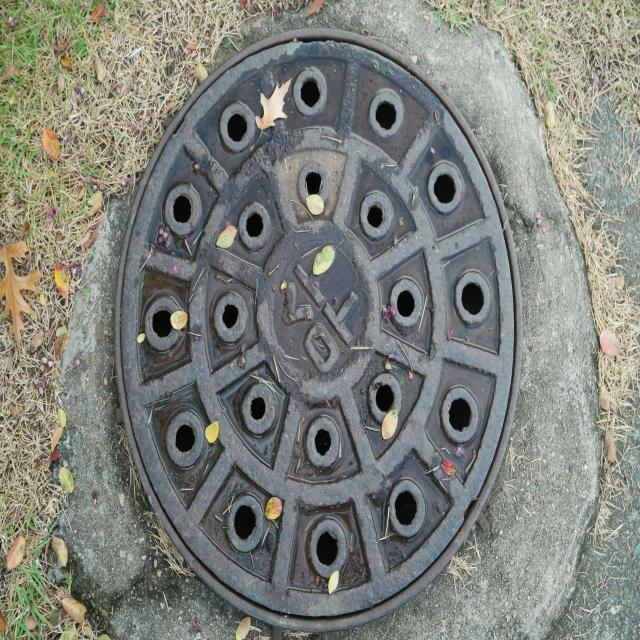manhole: (115, 29, 521, 631)
